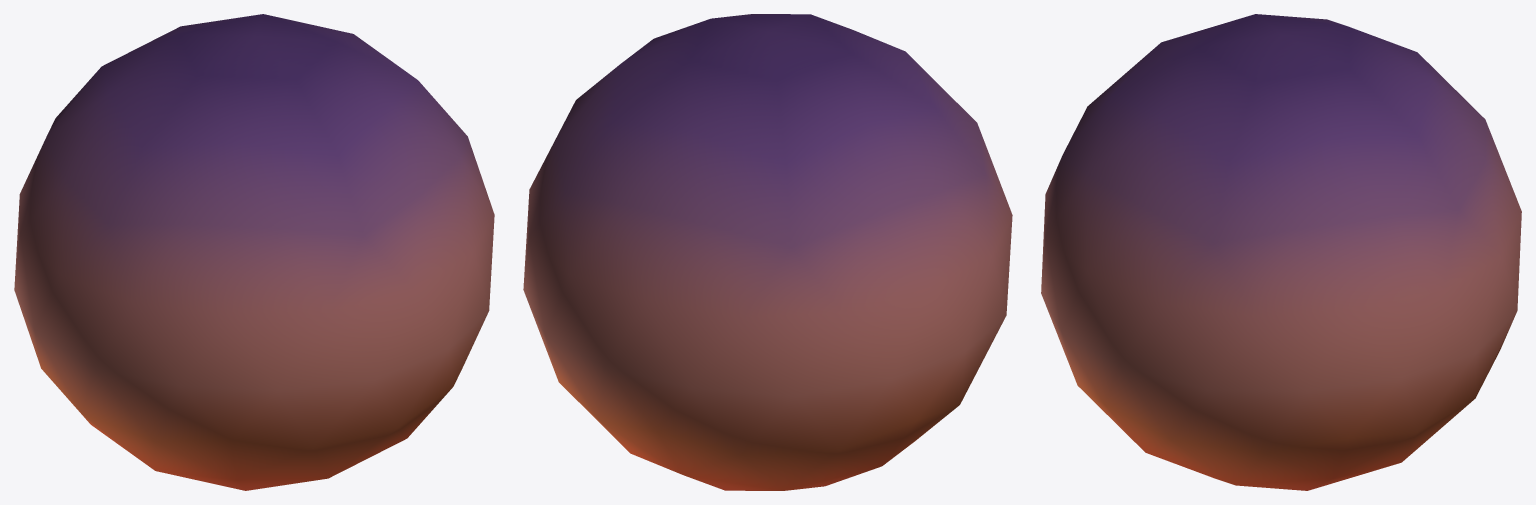
Rendered from SkyDome2.dae.
The picture shows the model from 3 angles, left to right: view 1: azimuth 30°, elevation 25°; view 2: azimuth 150°, elevation 25°; view 3: azimuth 270°, elevation 25°; orthographic projection.
Parts seen in each view (by area): view 1: F3:GeoDome1-0; view 2: F3:GeoDome1-0; view 3: F3:GeoDome1-0.
Boxes of the visible parts, x1,y1,x2,y2 form: F3:GeoDome1-0: (14, 14, 494, 490); F3:GeoDome1-0: (523, 14, 1012, 490); F3:GeoDome1-0: (1041, 14, 1521, 490).
Bounding box in the file's own units: 25 × 25 × 25.
